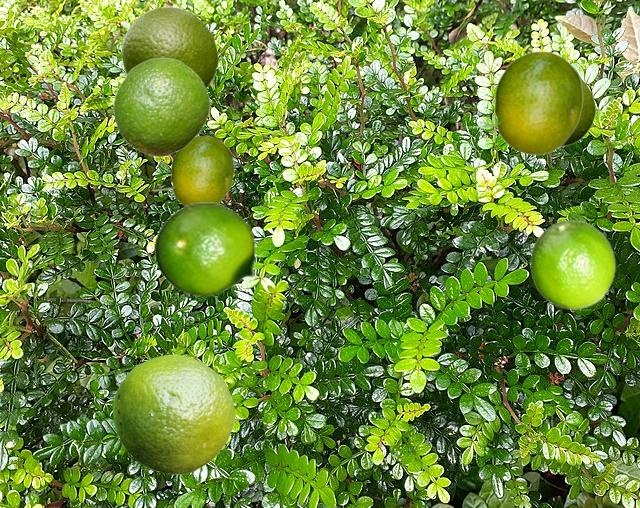calamansi: (113, 354, 233, 473), (464, 50, 582, 154), (153, 202, 267, 296), (113, 57, 209, 156), (121, 5, 218, 88), (530, 219, 615, 308), (149, 135, 233, 205), (563, 77, 595, 146)
